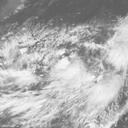cyclone: (24, 35, 101, 100)
